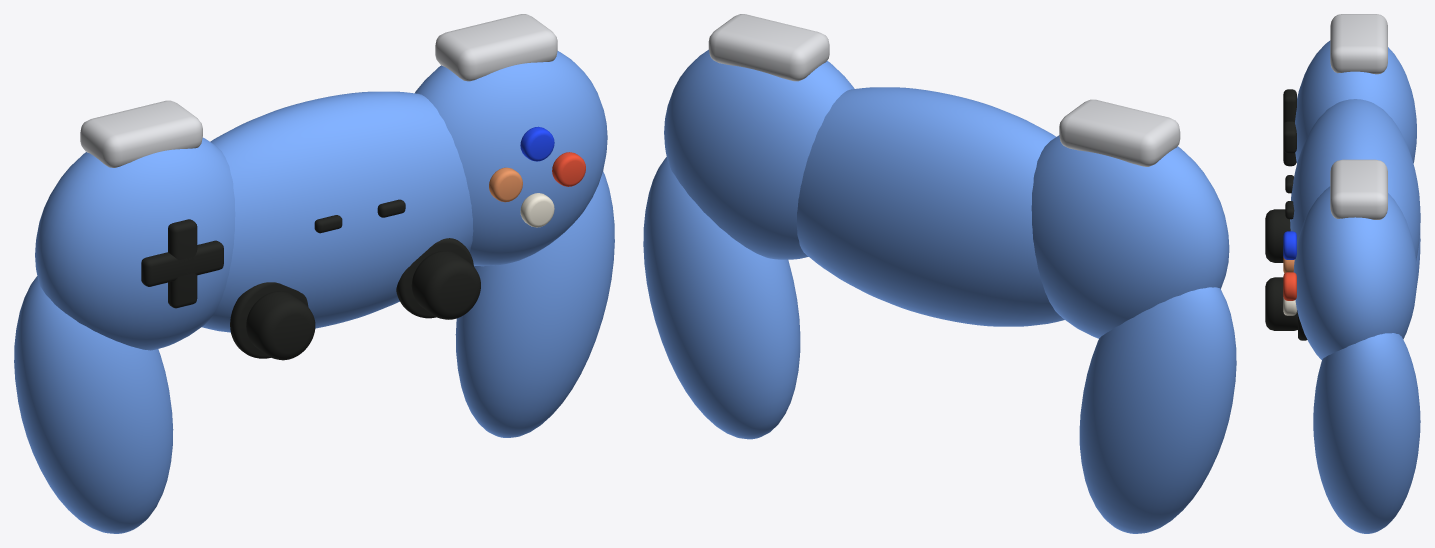
The model's file is life-gamepad.glb.
3 renders of one model, left to right at view 1: azimuth 30°, elevation 25°; view 2: azimuth 150°, elevation 25°; view 3: azimuth 270°, elevation 25°, orthographic. The views are drawn at different scales.
Parts seen in each view (by area): view 1: Core, Wing, Grip, Grip.001, Wing.001, Shoulder, Shoulder.001, Stick, Stick.001, PadH, PadV, StickBase (+5 smaller); view 2: Core, Grip, Wing, Grip.001, Wing.001, Shoulder.001, Shoulder; view 3: Grip.001, Wing.001, Core, Wing, Shoulder.001, Shoulder, Stick.001, Stick, PadV, PadH, Btn.001, Btn (+1 smaller).
Boxes of the visible parts, bbox=[...] form: Core: bbox=[202, 91, 473, 332]; Wing: bbox=[35, 137, 235, 350]; Grip: bbox=[14, 276, 173, 533]; Grip.001: bbox=[455, 171, 614, 437]; Wing.001: bbox=[415, 51, 607, 266]; Shoulder: bbox=[80, 100, 202, 167]; Shoulder.001: bbox=[435, 14, 557, 81]; Stick: bbox=[246, 291, 315, 360]; Stick.001: bbox=[411, 251, 480, 319]; PadH: bbox=[141, 240, 223, 286]; PadV: bbox=[168, 219, 197, 308]; StickBase: bbox=[230, 282, 308, 358]; Core: bbox=[796, 87, 1064, 326]; Grip: bbox=[1079, 287, 1236, 533]; Wing: bbox=[1031, 135, 1229, 338]; Grip.001: bbox=[643, 157, 800, 439]; Wing.001: bbox=[664, 49, 854, 259]; Shoulder.001: bbox=[708, 14, 829, 81]; Shoulder: bbox=[1059, 99, 1180, 166]; Grip.001: bbox=[1313, 333, 1420, 533]; Wing.001: bbox=[1293, 186, 1416, 359]; Core: bbox=[1290, 99, 1420, 260]; Wing: bbox=[1295, 40, 1416, 163]; Shoulder.001: bbox=[1330, 159, 1387, 219]; Shoulder: bbox=[1330, 14, 1387, 74]; Stick.001: bbox=[1265, 277, 1297, 330]; Stick: bbox=[1265, 209, 1290, 262]; PadV: bbox=[1283, 89, 1296, 166]; PadH: bbox=[1283, 121, 1296, 153]; Btn.001: bbox=[1283, 272, 1296, 300]; Btn: bbox=[1283, 231, 1296, 259].
Size of the model in its own units: 2.98 by 1.99 by 0.811.
